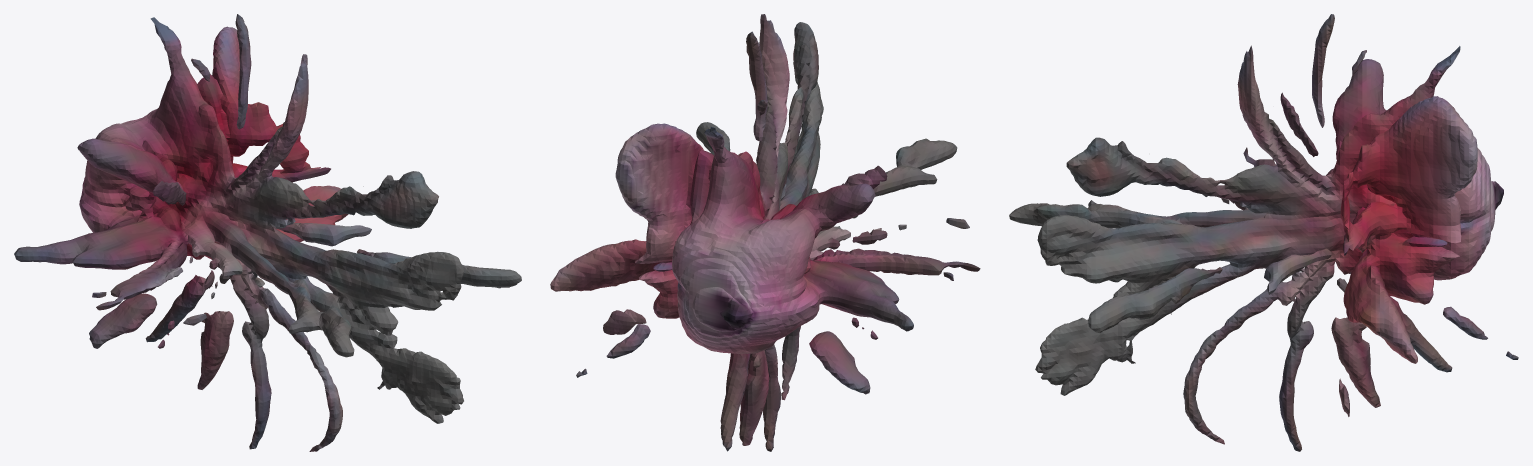
3 views of the same model, side by side, from view 1: azimuth 30°, elevation 25°; view 2: azimuth 150°, elevation 25°; view 3: azimuth 270°, elevation 25° (orthographic). The views are drawn at different scales.
Bounding box in the file's own units: 0.6594 × 0.7428 × 0.783.
